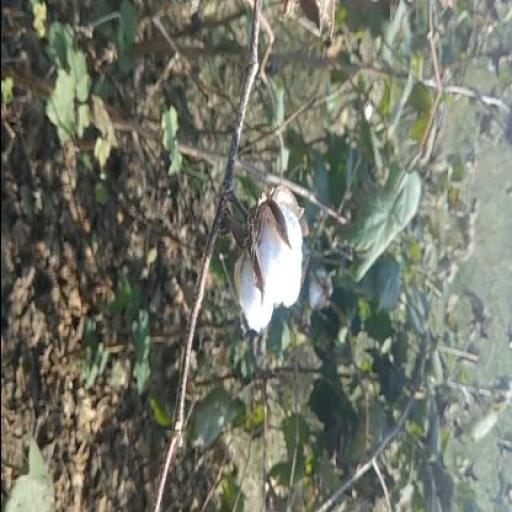cotton_ready: (209, 164, 305, 337)
